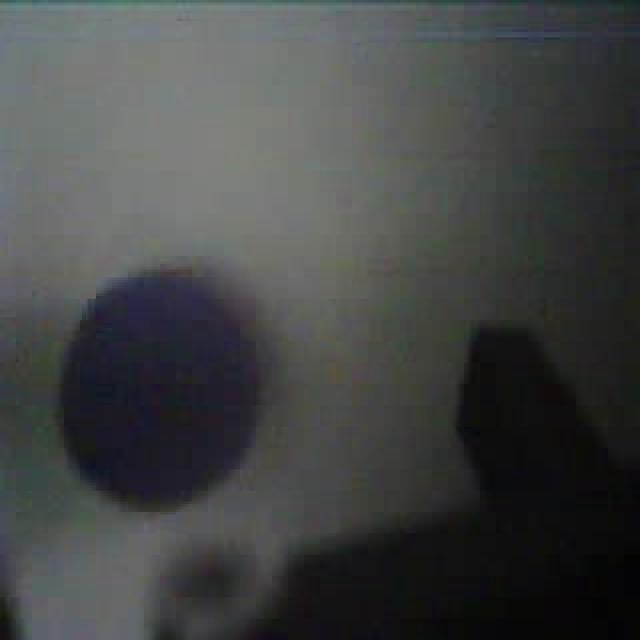blue_ball: (56, 258, 266, 514)
